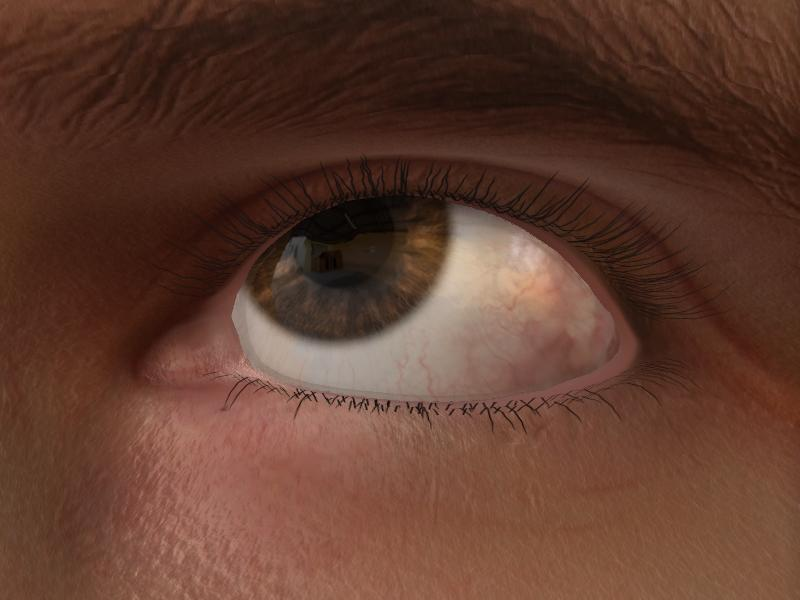eye: (248, 196, 450, 338)
